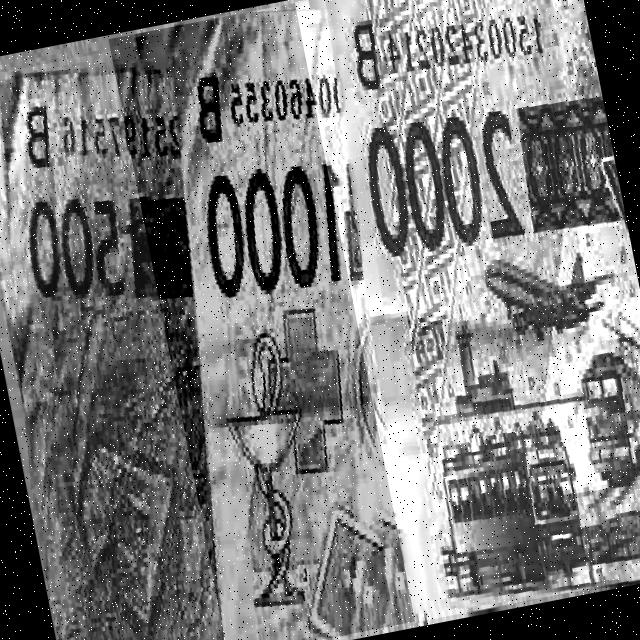niaar teemeer: (174, 5, 389, 640)
nient teemeer: (325, 0, 640, 614)
teemeer: (0, 70, 230, 640)
